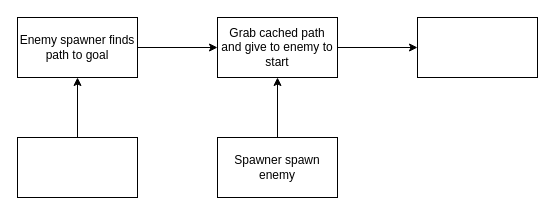
The diagram is 555 pixels wide and 215 high, and some of its shapes have lost their labels. The shapes that lost their labels are listed below. From the top down, each one's centre as x and y in pixels, then its label:
the point at 477,47: Enemy breaks down path and tries to detroy any walls in it's way?
the point at 77,167: Spawner awake
